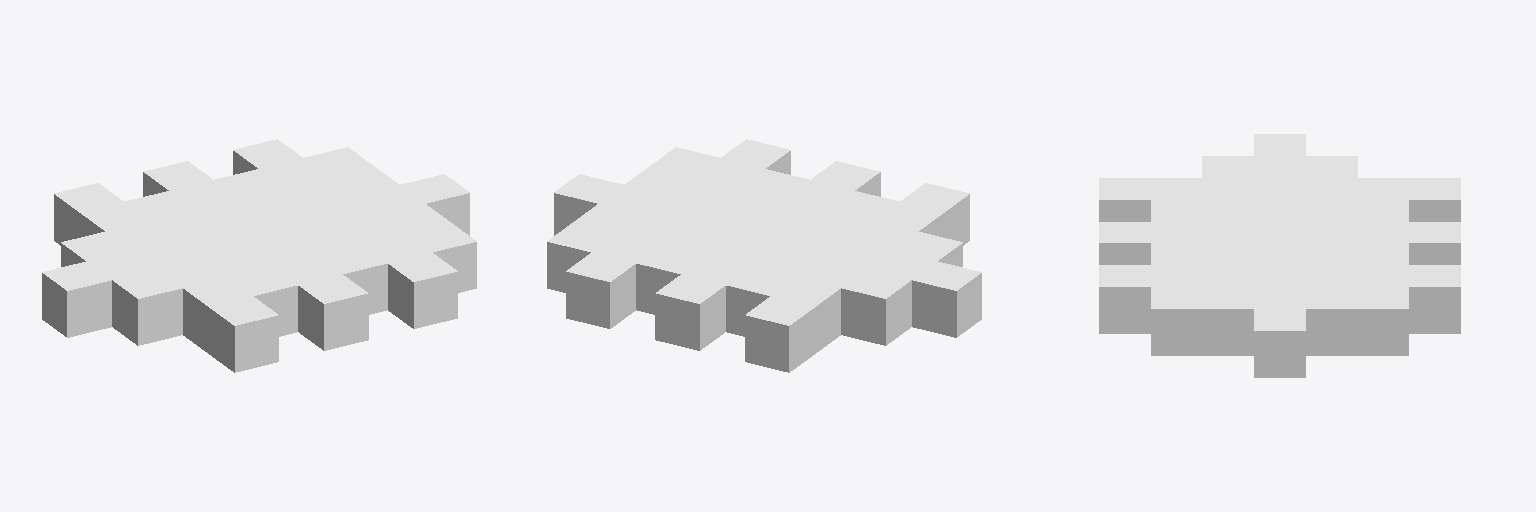
File: Dragon_large-7.obj
3 renders of one model, left to right at view 1: azimuth 30°, elevation 25°; view 2: azimuth 150°, elevation 25°; view 3: azimuth 270°, elevation 25°, orthographic.
Visible parts, largest first — view 1: object 1; view 2: object 1; view 3: object 1.
Boxes of the visible parts, <box> form: object 1: <box>42,139,476,372</box>; object 1: <box>547,139,981,372</box>; object 1: <box>1099,134,1460,377</box>.
Size of the model in its own units: 0.9 by 0.1 by 0.7.